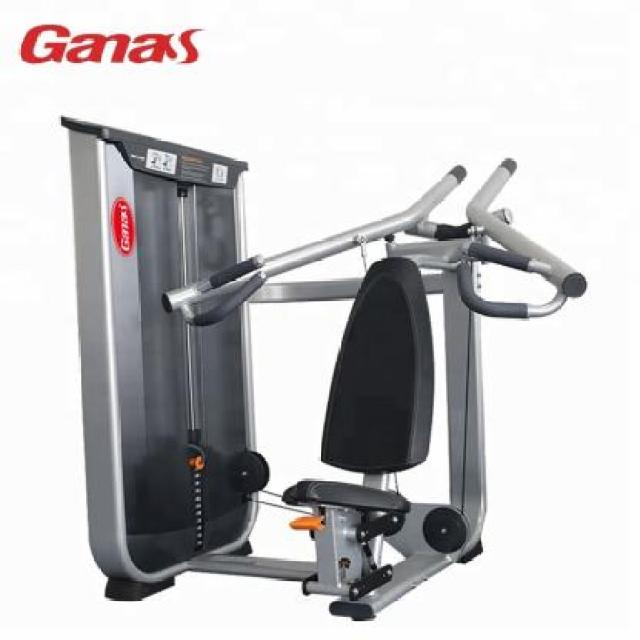shoulder press machine: (52, 102, 600, 628)
